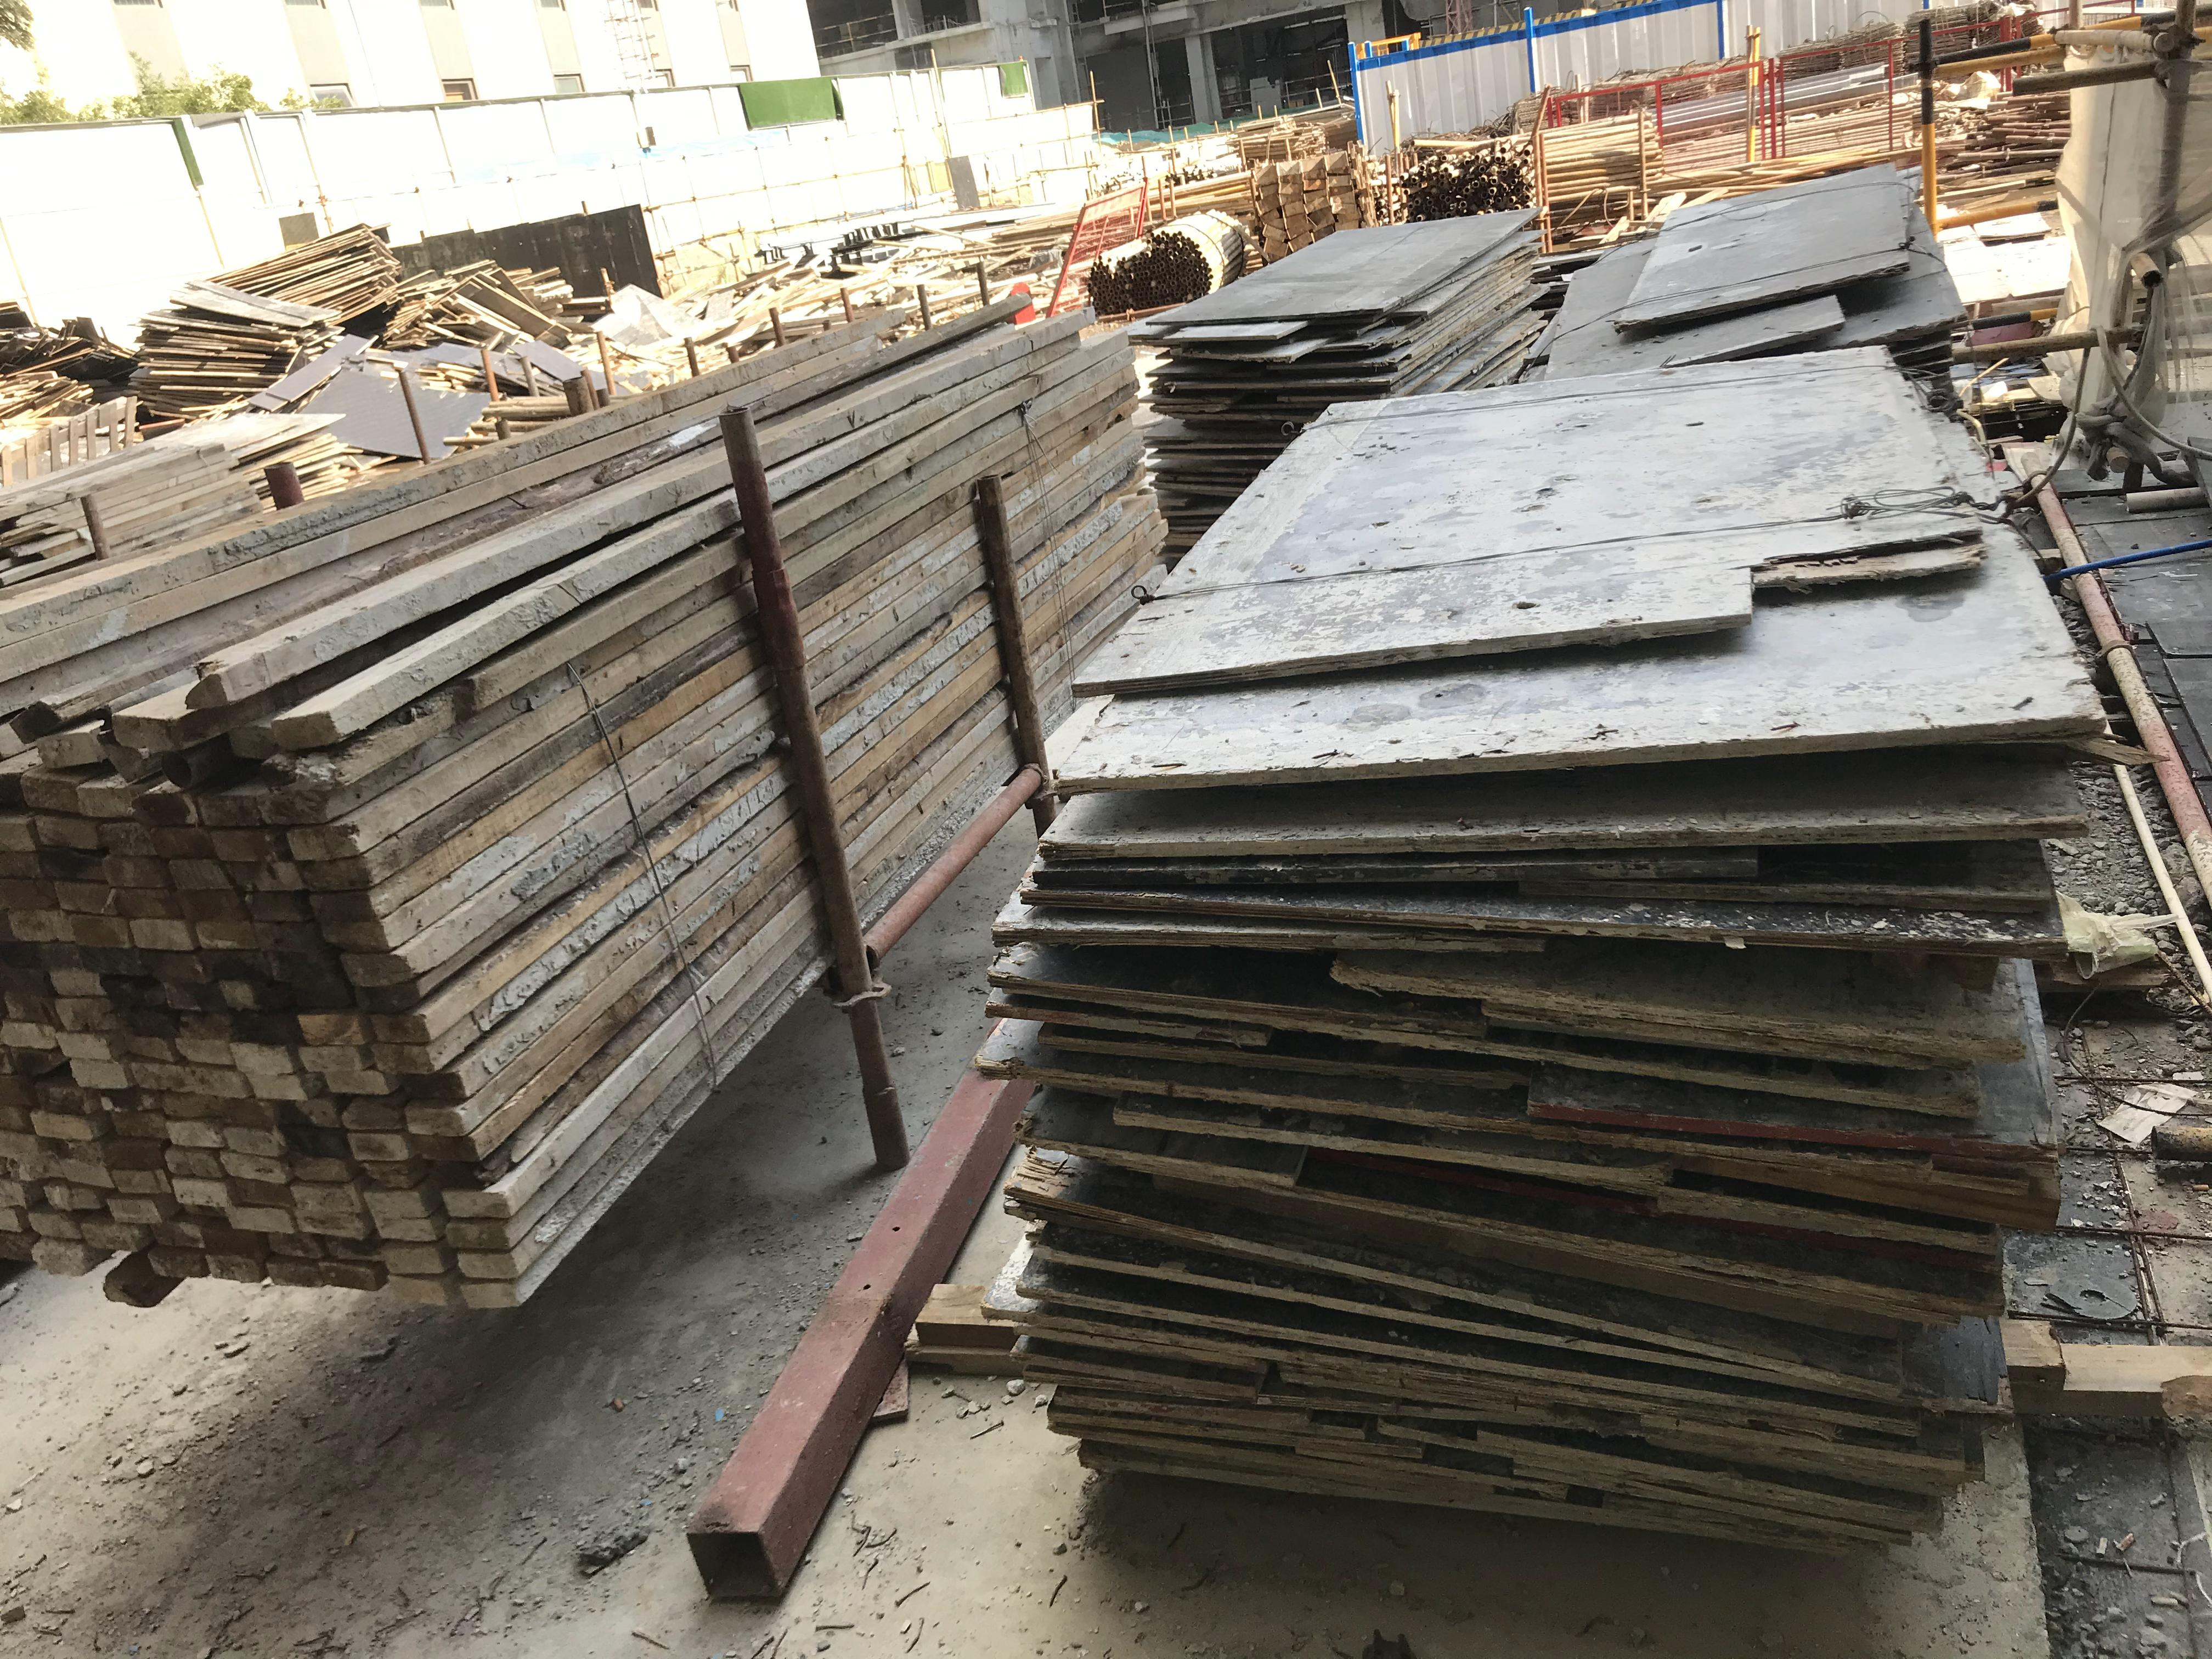board: (981, 364, 2111, 1589), (1134, 213, 1578, 533), (1548, 159, 1993, 390), (120, 289, 341, 410), (253, 216, 399, 328)
wood: (0, 251, 1172, 1284)
